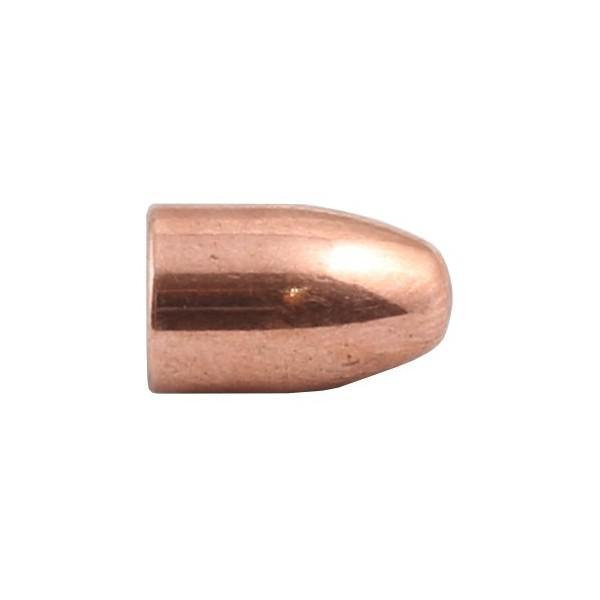Bullet: (121, 187, 462, 412)
